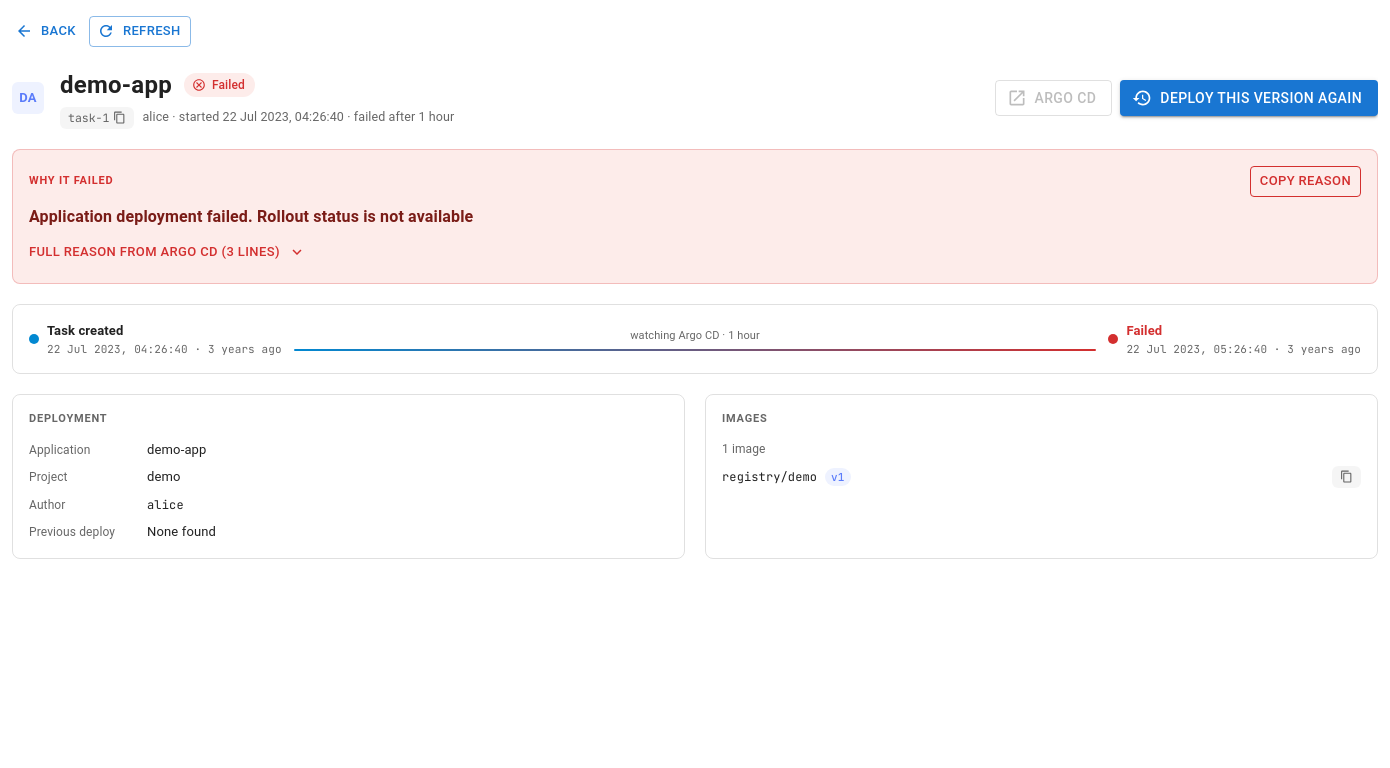
Test: TaskShow › leads with the failure reason and keeps the raw text reachable
Expected: the text "WHY IT FAILED" is shown, [29,174,113,187]
Expected: the text "Application deployment failed. Rollout status is not available" is shown, [29,206,473,226]
What coordinates should you click on to do the following:
click the button "Full reason from Argo CD (3 lines)"
I would click on:
 (166, 252)
Its box is [29,236,304,267].
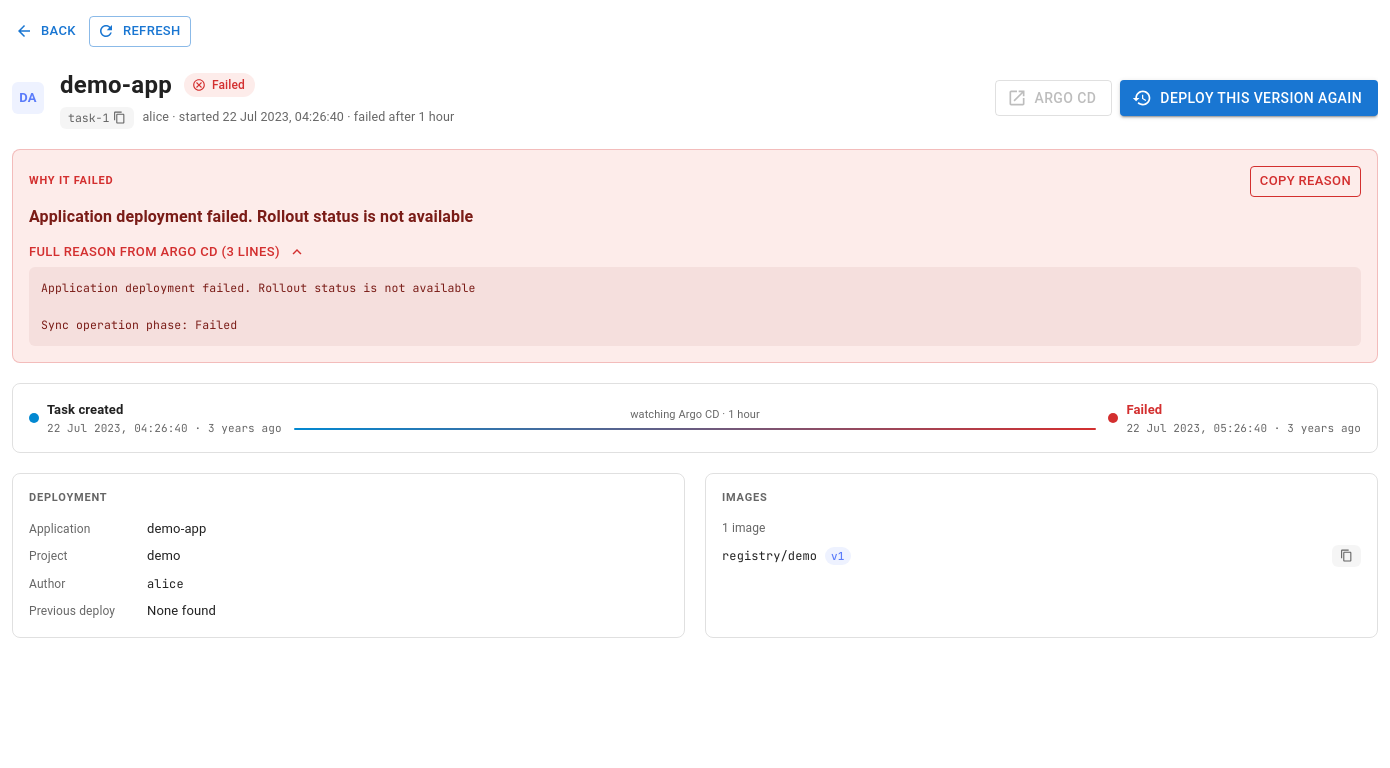
Result: the text "Sync operation phase: Failed" is shown at [41,280,476,332]
